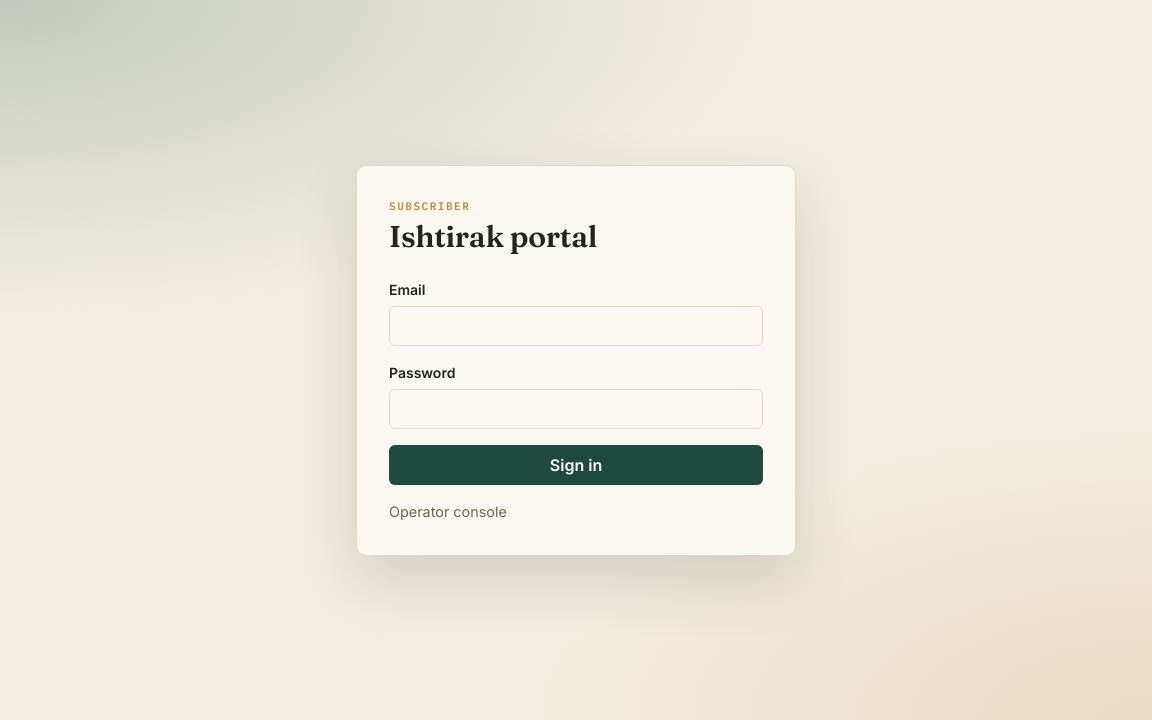
Scenario: auth pages › forwards the return-to target when switching login surfaces
Expected: the heading "Ishtirak portal" is shown, top-left (389, 218), bottom-right (597, 255)
Click the link "Operator console" at (448, 511), box top-left (389, 500), bottom-right (507, 522)
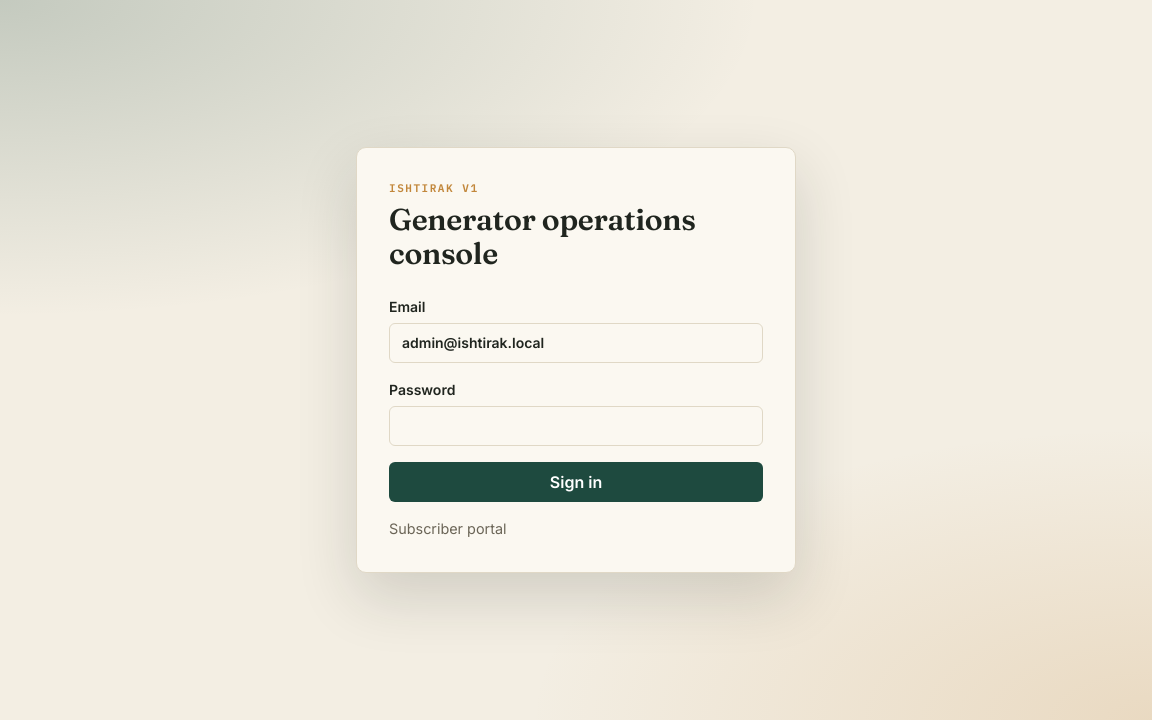
Expected: the heading "Generator operations console" is shown, top-left (389, 201), bottom-right (696, 272)
Type "demo-password" into the password field labelled "Password" at (576, 426), box top-left (389, 406), bottom-right (763, 446)
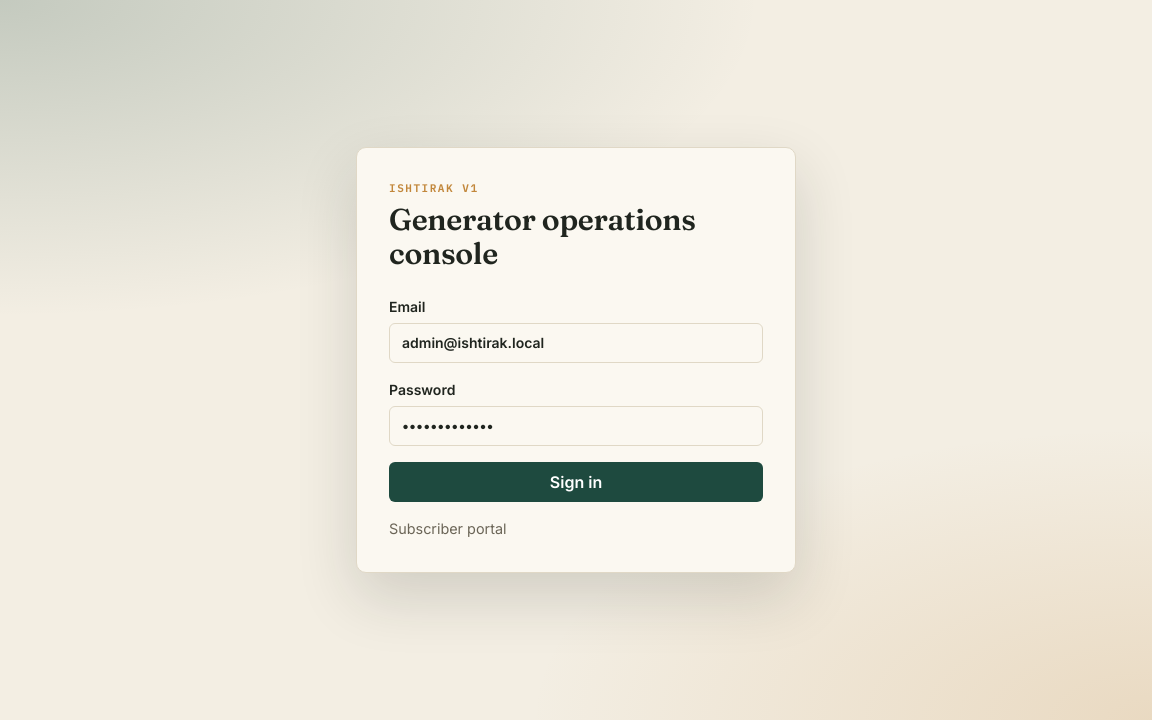
Click the button "Sign in" at (576, 482), box top-left (389, 462), bottom-right (763, 502)
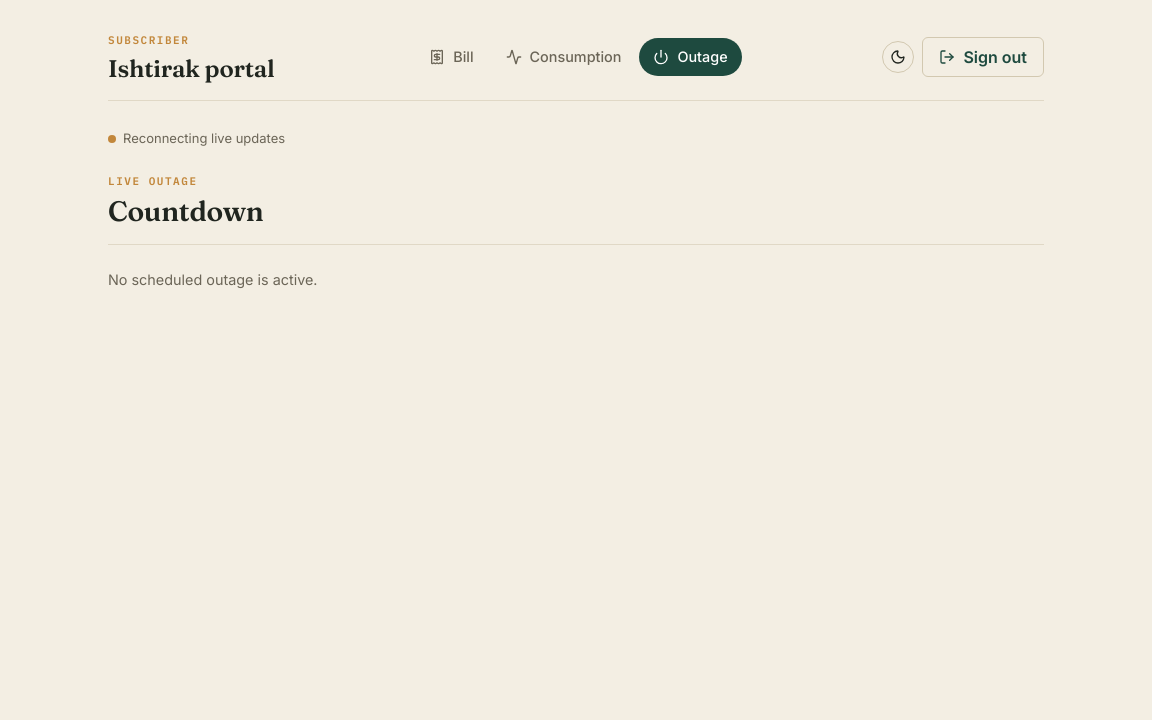
Expected: the heading "Countdown" is shown, top-left (108, 195), bottom-right (264, 228)
